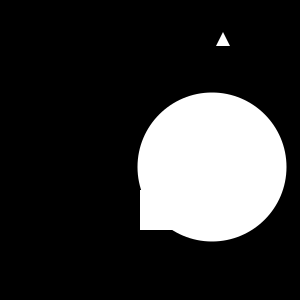circle: (140, 190, 180, 230)
rectangle: (138, 92, 286, 241)
triangle: (216, 32, 230, 46)
